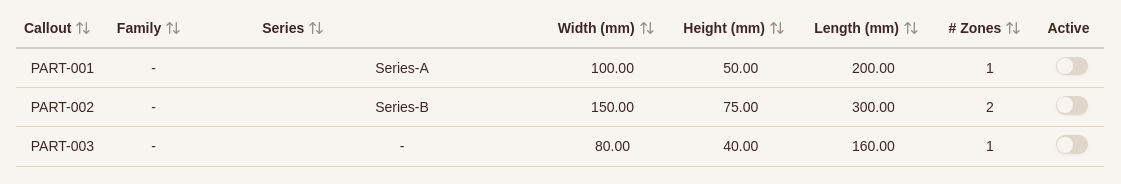
Test: PartsDataGrid › AC-2.7.1: Data Grid Renders with Sortable Columns › shows sort direction indicators
Click to sort ascending
Click the button "Width (mm)": point(606, 28) [558,18,655,38]
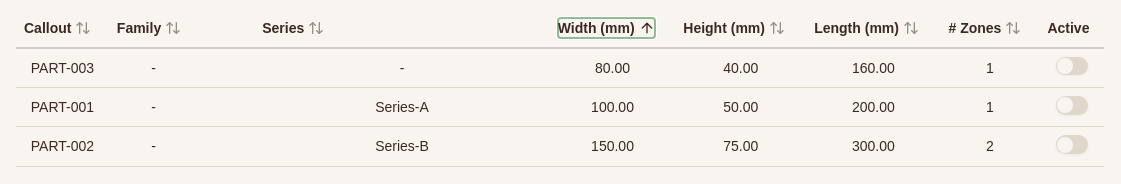
expect the icon named "Sorted ascending" is shown: met, box [639,20,655,36]
Click again for descending
Click the button "Width (mm)": point(606, 28) [558,18,655,38]
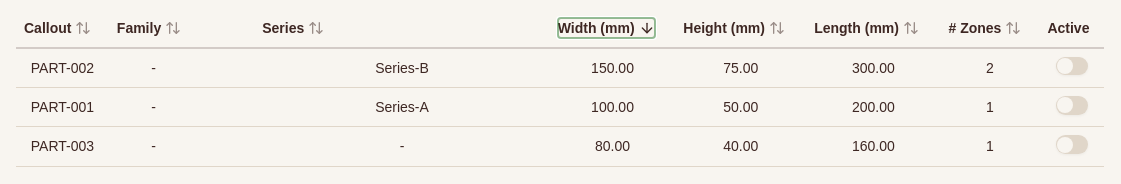
expect the icon named "Sorted descending" is shown: met, box [639,20,655,36]
